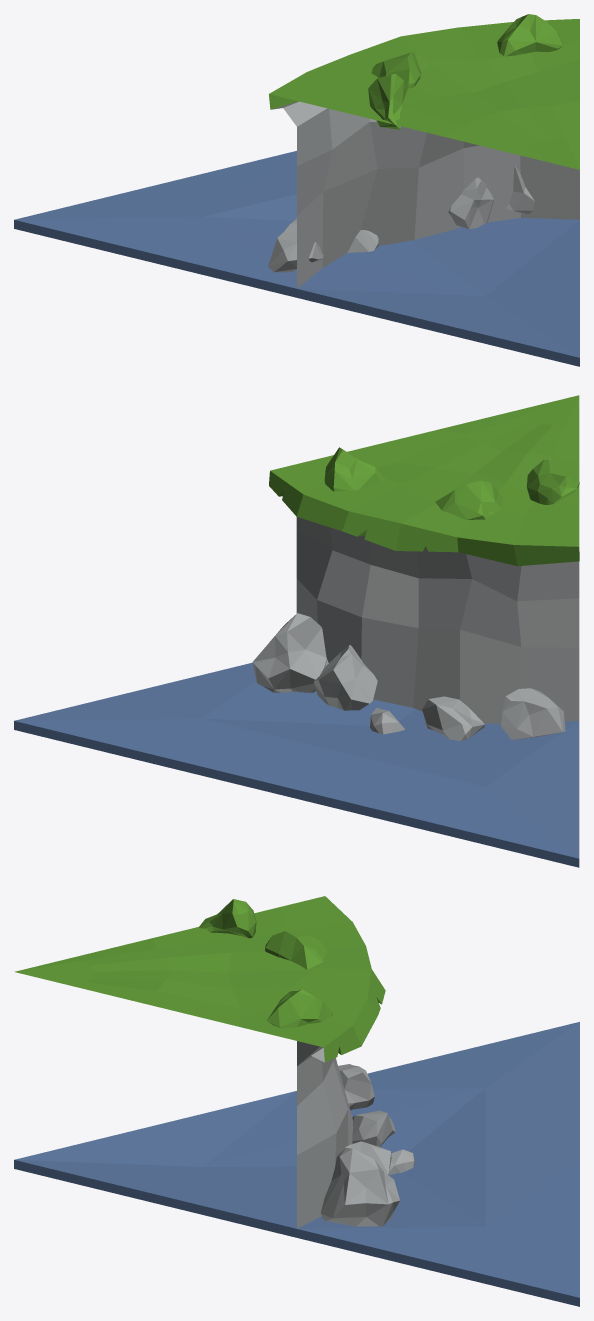
3 renders of one model, top to bottom at view 1: azimuth 30°, elevation 25°; view 2: azimuth 150°, elevation 25°; view 3: azimuth 270°, elevation 25°, orthographic.
Parts seen in each view (by area): view 1: hill8, water8, bush2.003, bush3.003, rock5.001, rock1.001, bush1.003, rock4.001, rock3.001; view 2: hill8, water8, rock4.001, rock5.001, rock1.001, rock3.001, bush1.003, bush2.003, bush3.003, rock0.013; view 3: water8, hill8, rock4.001, bush2.003, bush1.003, bush3.003, rock3.001, rock1.001, rock5.001.
Part boxes in pixels (<box>): hill8: <box>269,19,579,288</box>; water8: <box>14,151,579,366</box>; bush2.003: <box>497,14,563,56</box>; bush3.003: <box>368,73,408,129</box>; rock5.001: <box>448,177,493,228</box>; rock1.001: <box>268,218,323,272</box>; bush1.003: <box>371,52,430,88</box>; rock4.001: <box>506,165,534,214</box>; rock3.001: <box>347,230,378,252</box>; hill8: <box>269,395,579,723</box>; water8: <box>14,662,579,867</box>; rock4.001: <box>252,613,328,692</box>; rock5.001: <box>314,645,377,710</box>; rock1.001: <box>500,688,565,739</box>; rock3.001: <box>422,696,484,740</box>; bush1.003: <box>435,480,502,519</box>; bush2.003: <box>324,447,384,491</box>; bush3.003: <box>527,459,579,504</box>; rock0.013: <box>370,708,404,734</box>; water8: <box>14,1022,579,1306</box>; hill8: <box>14,896,385,1228</box>; rock4.001: <box>320,1148,399,1226</box>; bush2.003: <box>267,989,332,1028</box>; bush1.003: <box>265,931,327,969</box>; bush3.003: <box>199,899,256,938</box>; rock3.001: <box>352,1110,395,1147</box>; rock1.001: <box>338,1064,374,1110</box>; rock5.001: <box>345,1141,391,1174</box>.
Bounding box in the file's own units: 1 × 0.4577 × 0.866.
